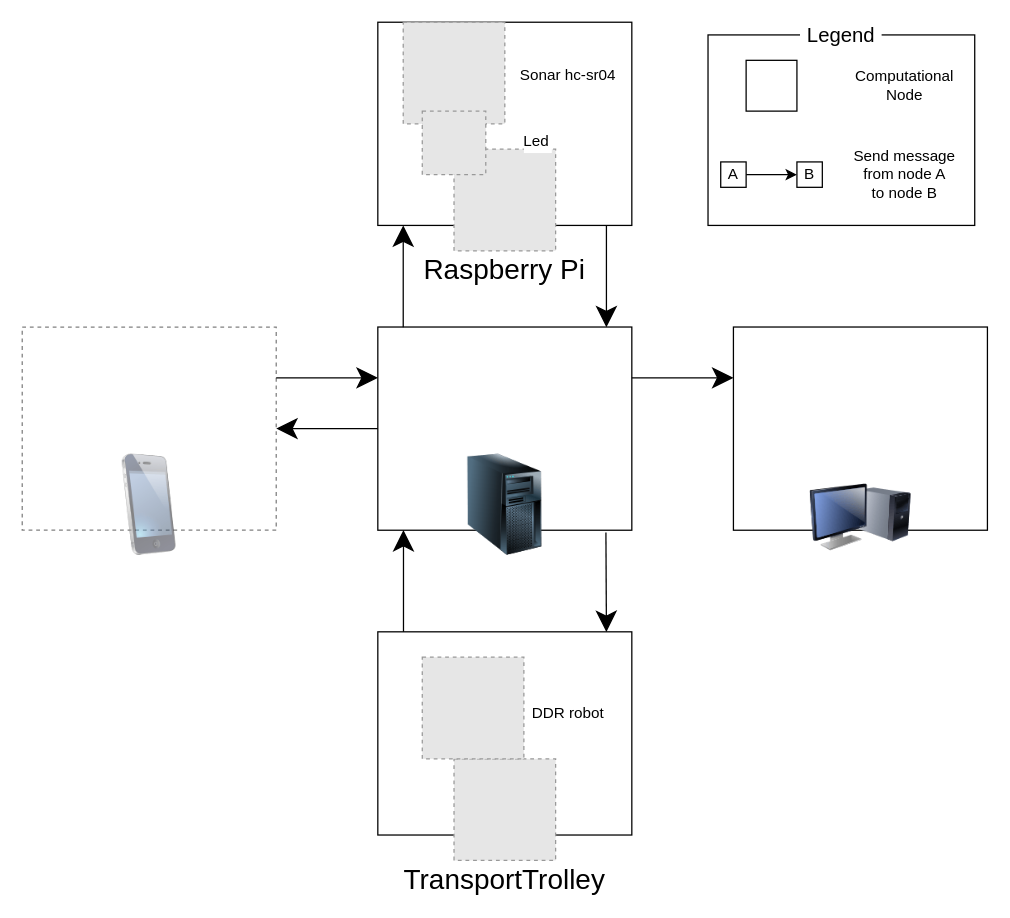
Some shapes in this 1010 by 918 pixel diagram are drawn without their labels. Grey dashed boxes stand in for pictures. Each missing label, with the centre of its shape:
"SmartDevice" belongs at point 148,504.
"WasteService" belongs at point 504,504.
"WasteServiceStatus" belongs at point 860,517.
